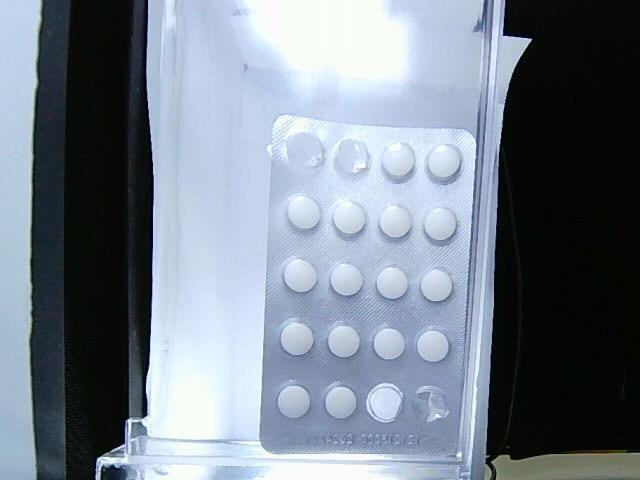Light Front: (258, 116, 474, 458)
No Pill Front: (273, 130, 326, 173), (366, 383, 403, 423), (333, 139, 370, 176), (414, 385, 449, 422)
Pill Front: (426, 144, 461, 181), (286, 195, 321, 230), (381, 143, 414, 180), (333, 200, 366, 235), (281, 321, 313, 356), (424, 208, 457, 241), (379, 205, 412, 238), (330, 263, 363, 296), (284, 259, 317, 292), (325, 384, 356, 419), (376, 266, 408, 299), (420, 269, 452, 302), (328, 324, 360, 357), (278, 385, 310, 418), (416, 330, 448, 362), (374, 328, 405, 360)
